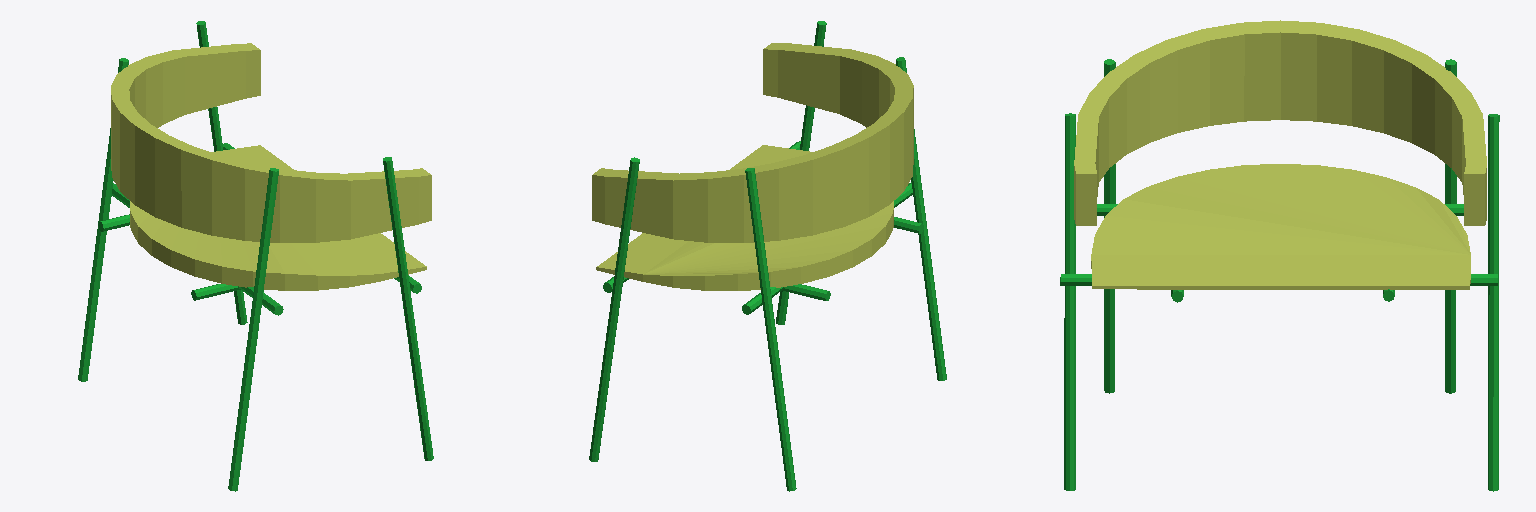
The robot description file, URDF, robot "chair":
<?xml version="0.0" ?>
<robot name="chair">
  <link name="chair1">

    <inertial>
      <origin rpy="1.57 0 0" xyz="0.0 0.0 0.0"/>
       <mass value=".1"/>
       <inertia ixx="1" ixy="0" ixz="0" iyy="1" iyz="0" izz="1"/>
    </inertial>
    <visual>
      <origin rpy="1.57 0 0" xyz="0 0 0.0"/>
      <geometry>
        <mesh filename="meshes/chair/chair1.obj" />
      </geometry>
      <material name="chair1" >
        <color rgba="0.145 0.701 0.260 0.9"/>
      </material>
    </visual>
    <collision>
      <origin rpy="1.57 0 0" xyz="0 0 0.0"/>
      <geometry>
	 	<mesh filename="meshes/chair/chair1.obj" />
      </geometry>
    </collision>
  </link>

  <joint name="chair2" type="fixed">
    <origin rpy="0 0 0" xyz="0 0 0"/>
    <parent link="chair1"/>
    <child link="chair2"/>
  </joint>
    <link name="chair2">
    <contact>
      <lateral_friction value="1.0"/>
      <rolling_friction value="0.0"/>
      <contact_cfm value="0.0"/>
      <contact_erp value="1.0"/>
    </contact>
    <inertial>
      <origin rpy="1.57 0 0" xyz="0.0 0.0 0."/>
       <mass value=".1"/>
       <inertia ixx="1" ixy="0" ixz="0" iyy="1" iyz="0" izz="1"/>
    </inertial>
    <visual>
      <origin rpy="1.57 0 0" xyz="0 0 0.0"/>
      <geometry>
        <mesh filename="meshes/chair/chair2.obj" />
      </geometry>
      <material name="chair2" >
        <color rgba="0.75 0.801 0.378 1"/>
      </material>
    </visual>
    <collision>
      <origin rpy="1.57 0 0" xyz="0 0 0.0"/>
      <geometry>
	 	<mesh filename="meshes/chair/chair2.obj" />
      </geometry>
    </collision>
  </link>


</robot>

--- Facts derived from the render (not from the file) ---
3 views of the same robot in one strip: view 1: azimuth 30°, elevation 25°; view 2: azimuth 150°, elevation 25°; view 3: azimuth 270°, elevation 25° (orthographic).
Model chair with 2 links and 1 joints (1 fixed), rooted at chair1, posed all joints at 0.
Links seen in each view (by area): view 1: chair2, chair1; view 2: chair2, chair1; view 3: chair2, chair1.
Link boxes in pixels (x1,y1,x2,y2): chair2: (111,43,431,290); chair1: (78,21,433,491); chair2: (592,43,913,290); chair1: (589,21,946,491); chair2: (1074,20,1486,289); chair1: (1060,59,1499,491).
Bounding box of the posed robot: 0.4263 × 0.6757 × 0.6085 m (x, y, z).
Meshes: 2 distinct files referenced, 2 mesh visuals loaded (2 OBJ).
